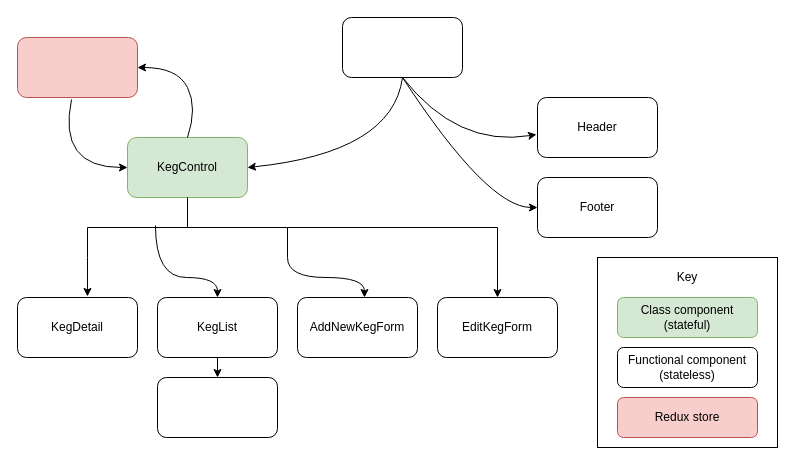
The diagram is 795 pixels wide and 465 high, and some of its shapes have lost their labels. Each missing label, with the box of its shape:
App: (342, 16, 462, 78)
KegListTile: (156, 376, 278, 438)
Store: (16, 36, 138, 98)
